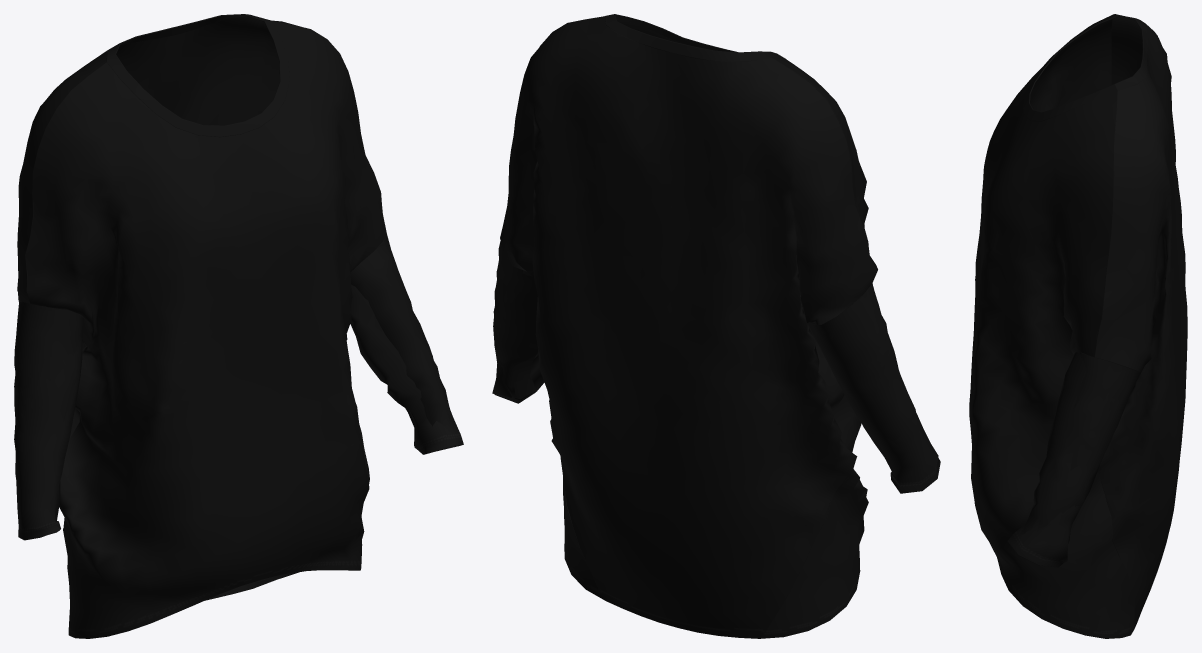
Rendered from twiggytoplowpoly.fbx.
3 renders of one model, left to right at view 1: azimuth 30°, elevation 25°; view 2: azimuth 150°, elevation 25°; view 3: azimuth 270°, elevation 25°, orthographic. The views are drawn at different scales.
Parts seen in each view (by area): view 1: 后幅; view 2: 后幅; view 3: 后幅.
Boxes of the visible parts, x1=… form: 后幅: x1=14, y1=14, x2=463, y2=638; 后幅: x1=492, y1=14, x2=940, y2=638; 后幅: x1=969, y1=14, x2=1187, y2=638.
Bounding box in the file's own units: 61.36 × 78.52 × 28.05.
19 materials, 19 textured.
